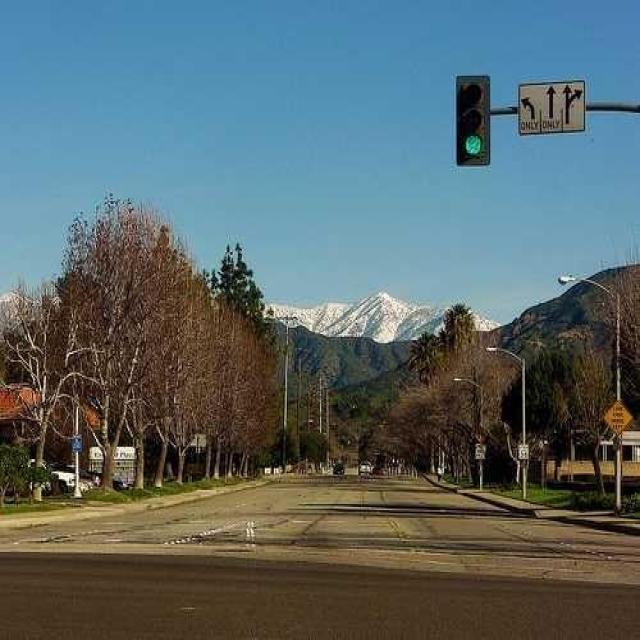Traffic Light -Green-: (454, 80, 488, 166)
